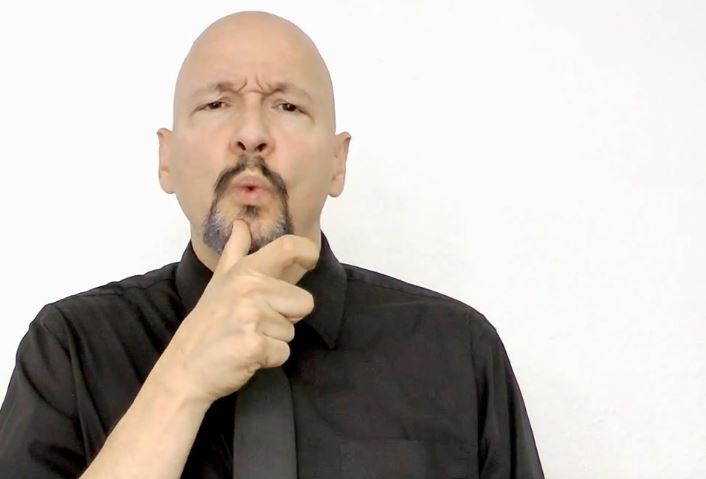who: (170, 192, 395, 382)
